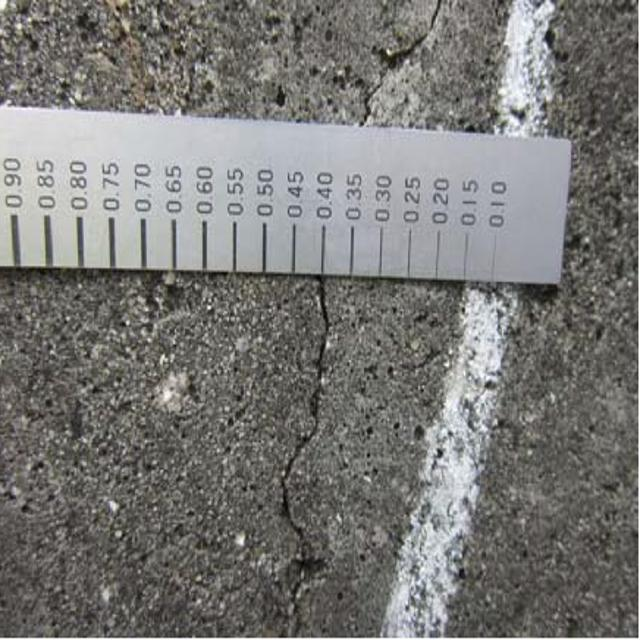crack: (267, 284, 349, 639), (338, 5, 453, 132)
